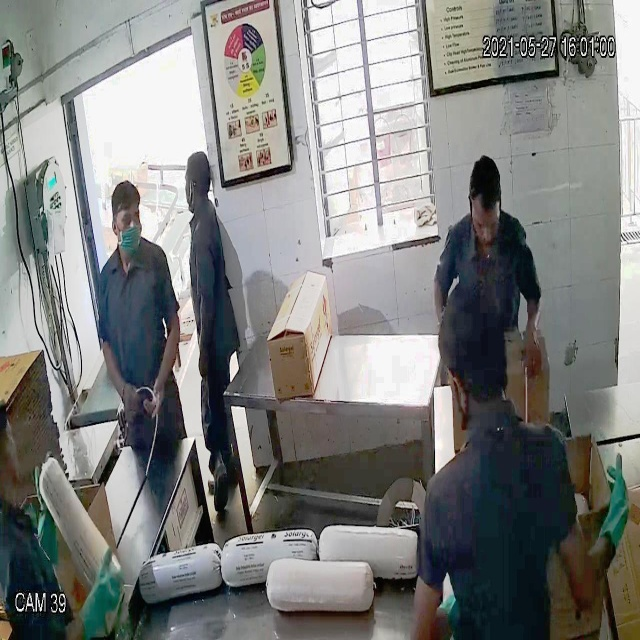Sin_gafas: (466, 204, 508, 236), (106, 204, 148, 233)
